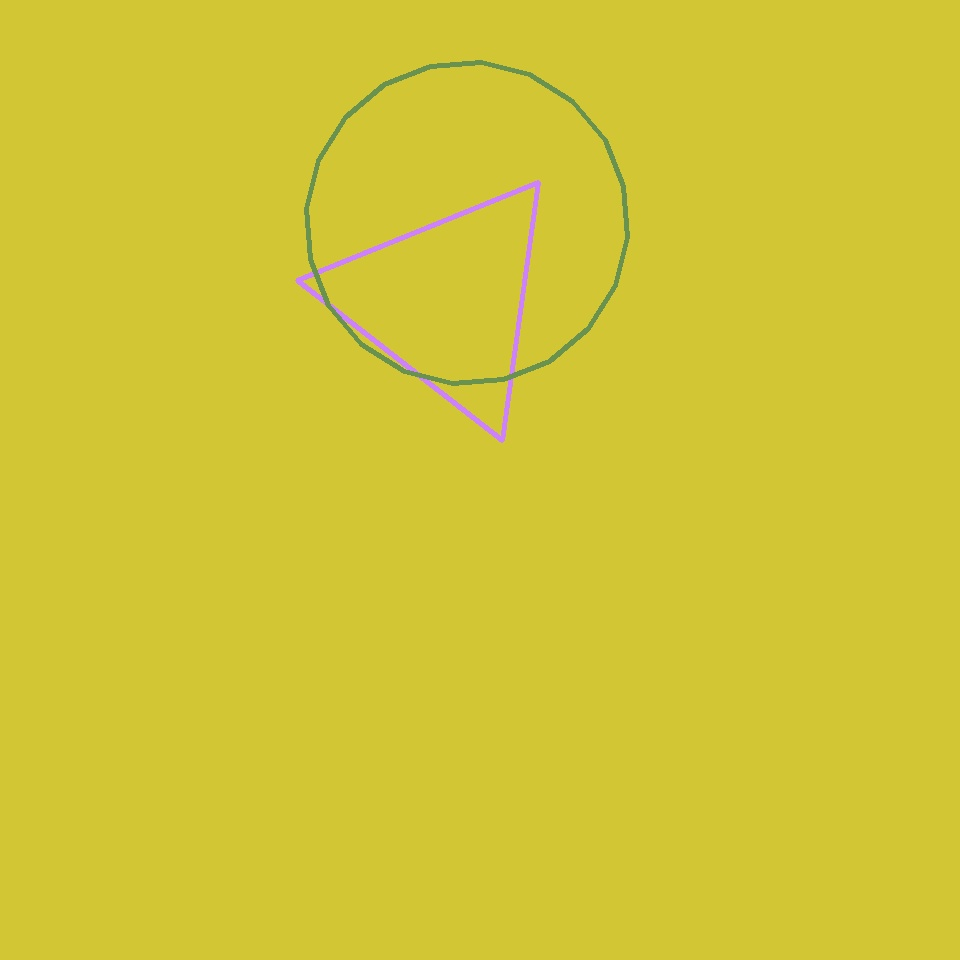circle: (326, 172, 566, 430)
triangle: (306, 63, 627, 384)
